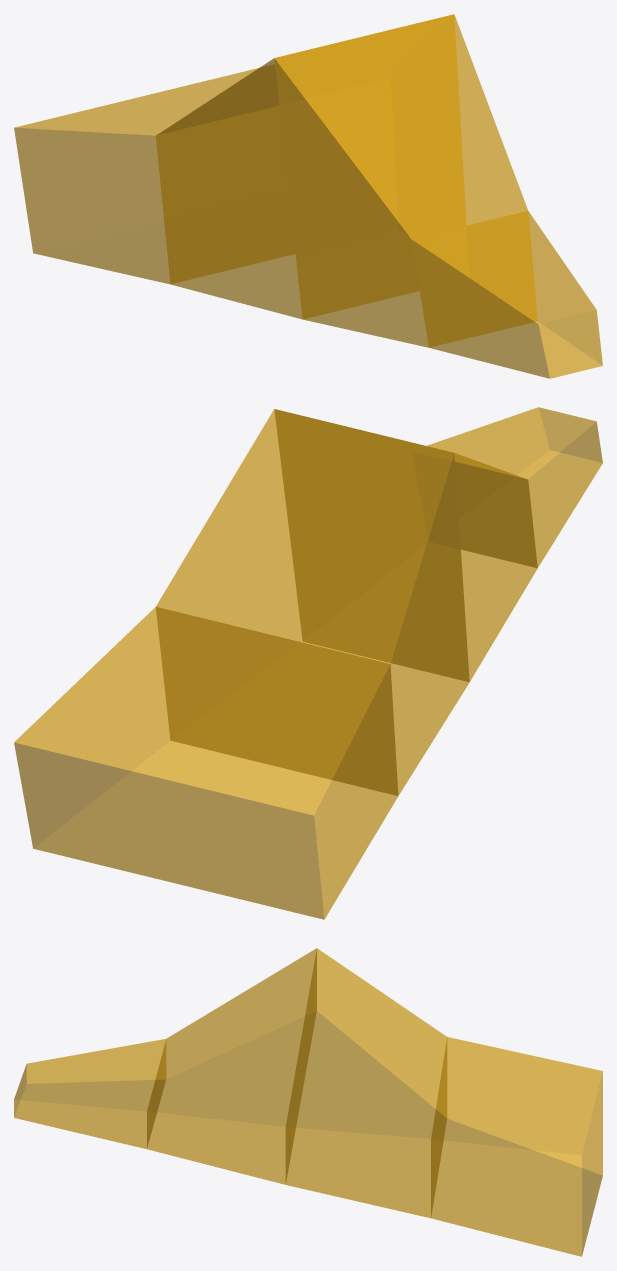
Rendered from SM_Veh_Ship_S_Ram_02_Collision.fbx.
The picture shows the model from 3 angles, top to bottom: view 1: azimuth 30°, elevation 25°; view 2: azimuth 150°, elevation 25°; view 3: azimuth 270°, elevation 25°; orthographic projection. The views are drawn at different scales.
Visible parts, largest first — view 1: SM_Veh_Ship_S_Ram_02_Collision; view 2: SM_Veh_Ship_S_Ram_02_Collision; view 3: SM_Veh_Ship_S_Ram_02_Collision.
Part boxes in pixels (left/top/right/bottom): SM_Veh_Ship_S_Ram_02_Collision: left=14, top=14, right=602, bottom=378; SM_Veh_Ship_S_Ram_02_Collision: left=14, top=407, right=602, bottom=919; SM_Veh_Ship_S_Ram_02_Collision: left=14, top=948, right=602, bottom=1256.
Size of the model in its own units: 244 by 247 by 581.
